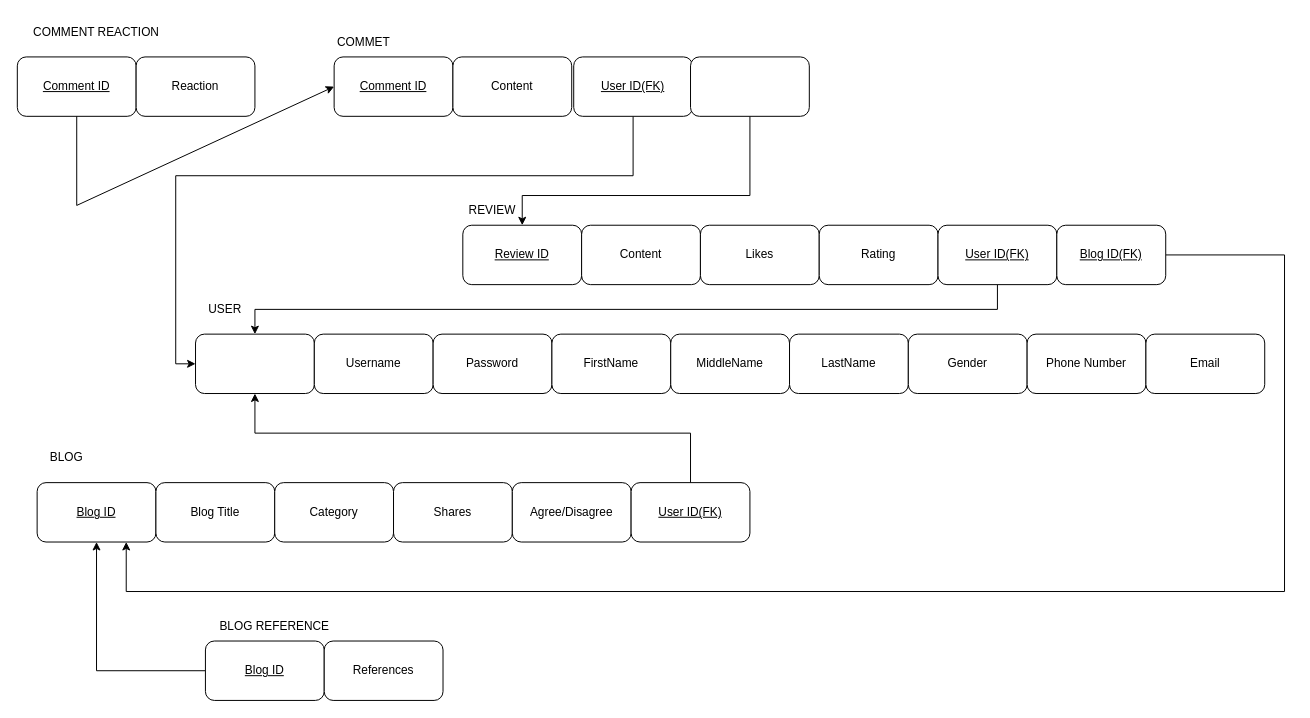
The diagram is 1310 pixels wide and 718 high, and some of its shapes have lost their labels. Here are the shapes that lost their labels. From the top down, the centre of each, then its label:
At (749,86): "Review ID(FK)".
At (254,363): "User ID(PK)".
